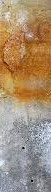Corrosion: (1, 1, 51, 105)
